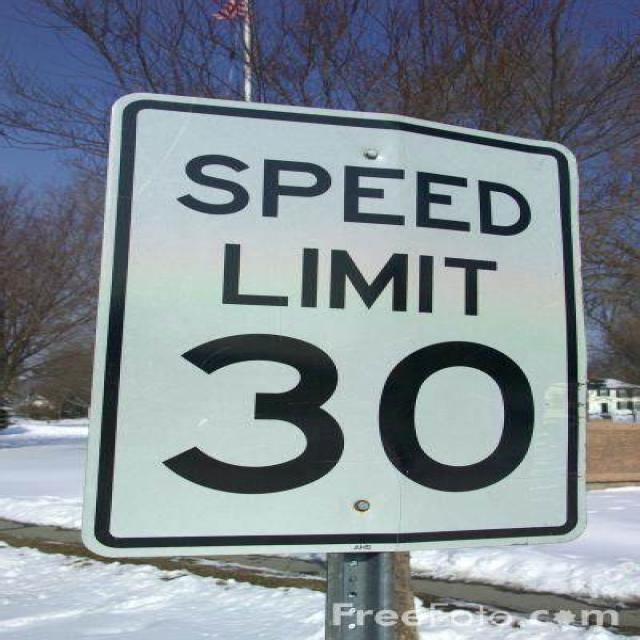speedLimit30: (87, 100, 590, 546)
